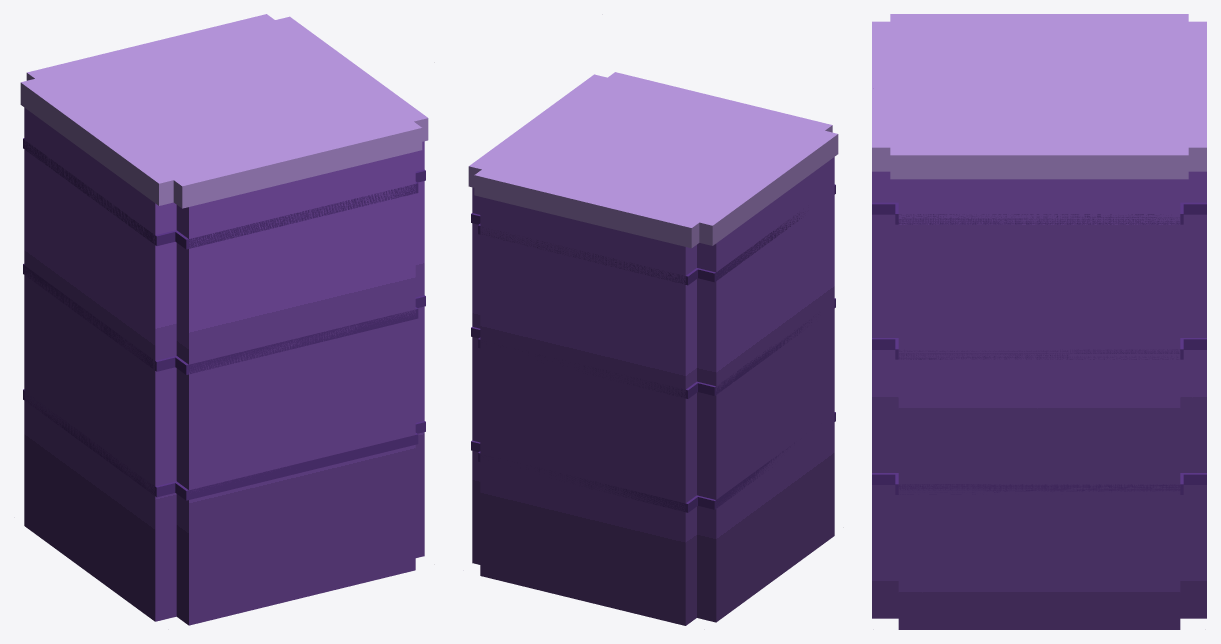
Rendered from perimeter_wall_crystal_cross.glb.
3 views of the same model, side by side, from view 1: azimuth 30°, elevation 25°; view 2: azimuth 150°, elevation 25°; view 3: azimuth 270°, elevation 25° (orthographic). The views are drawn at different scales.
Size of the model in its own units: 2.02 by 3.6 by 2.02.
Materials: 1 (1 with a texture image).
